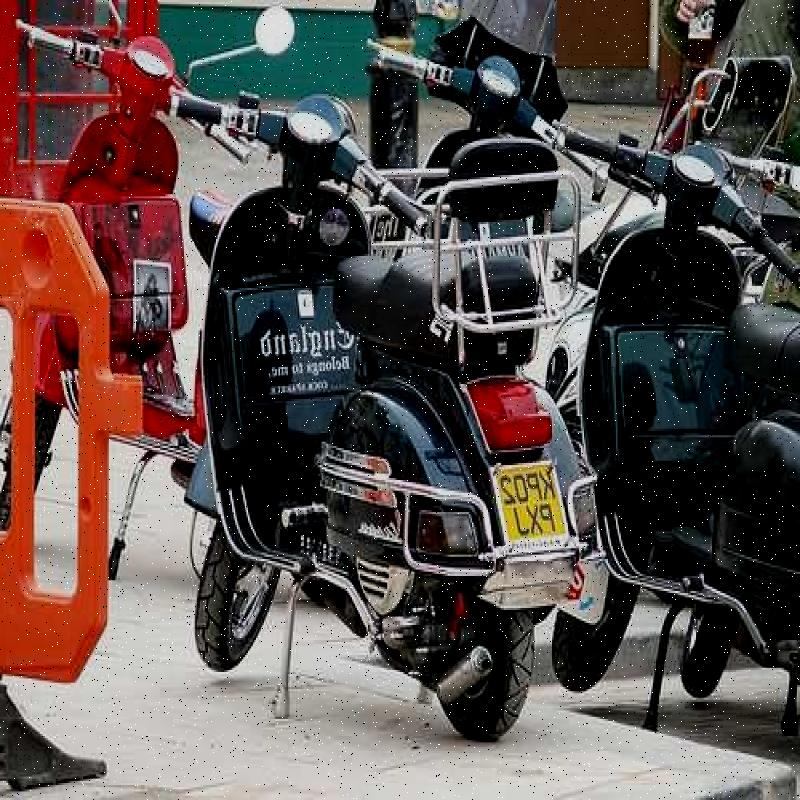bike: (170, 91, 546, 774), (539, 121, 800, 763), (1, 1, 245, 358), (367, 18, 573, 208)
